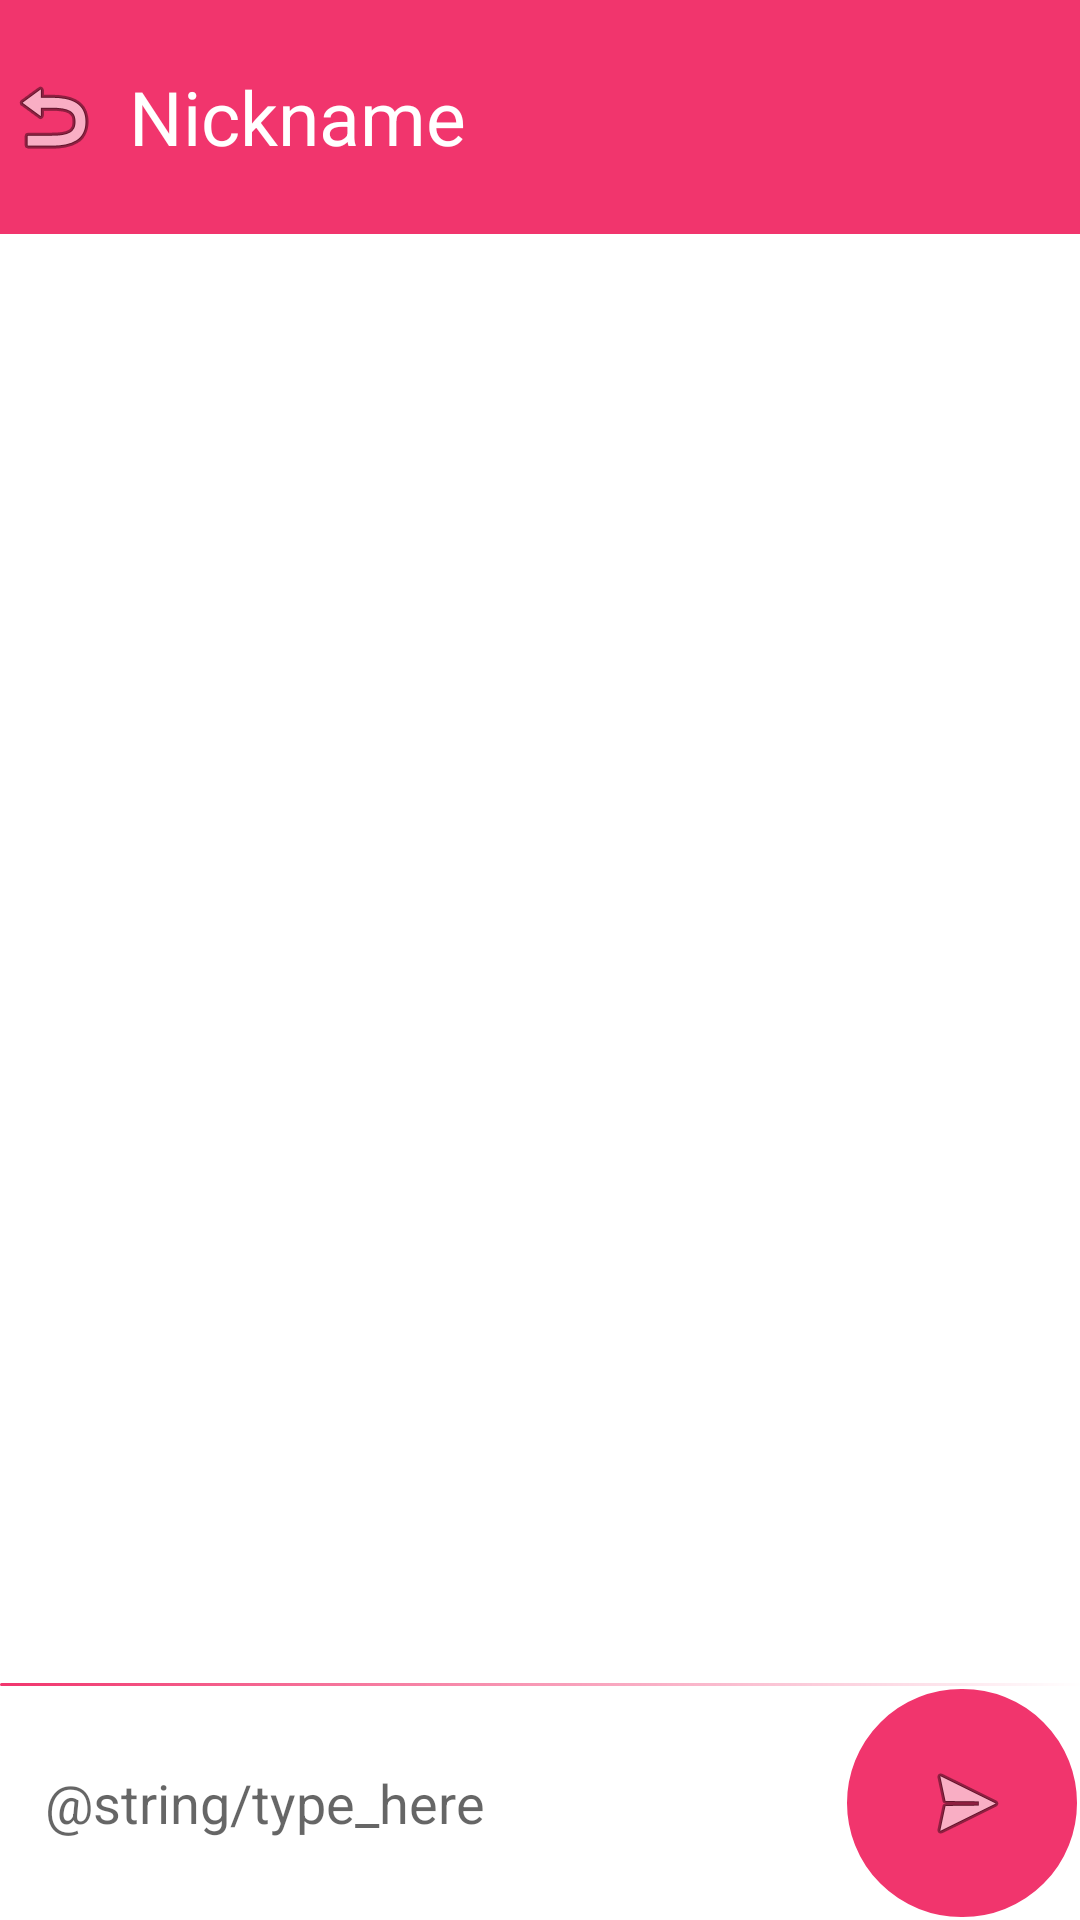

Locate icon controls on the screen. Image size 1080×1920, boxes as (x1, y1, x2, y2).
revert: (20, 86, 89, 149)
send: (847, 1689, 1077, 1917)
